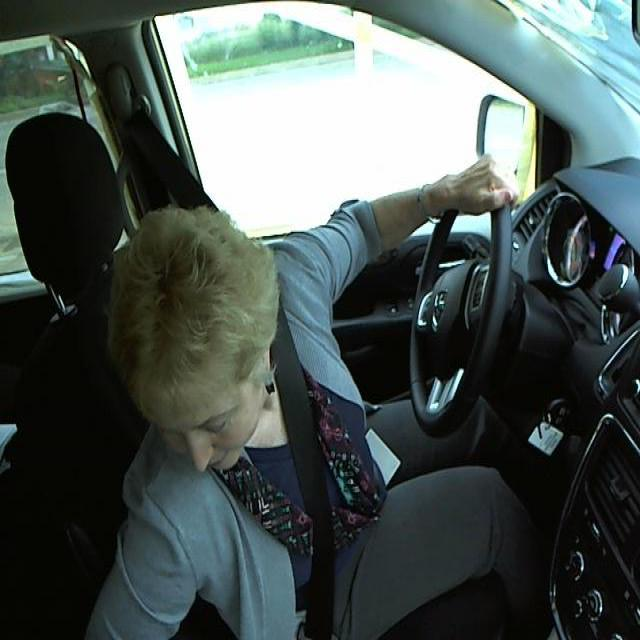seatbelt: (280, 392, 349, 625)
